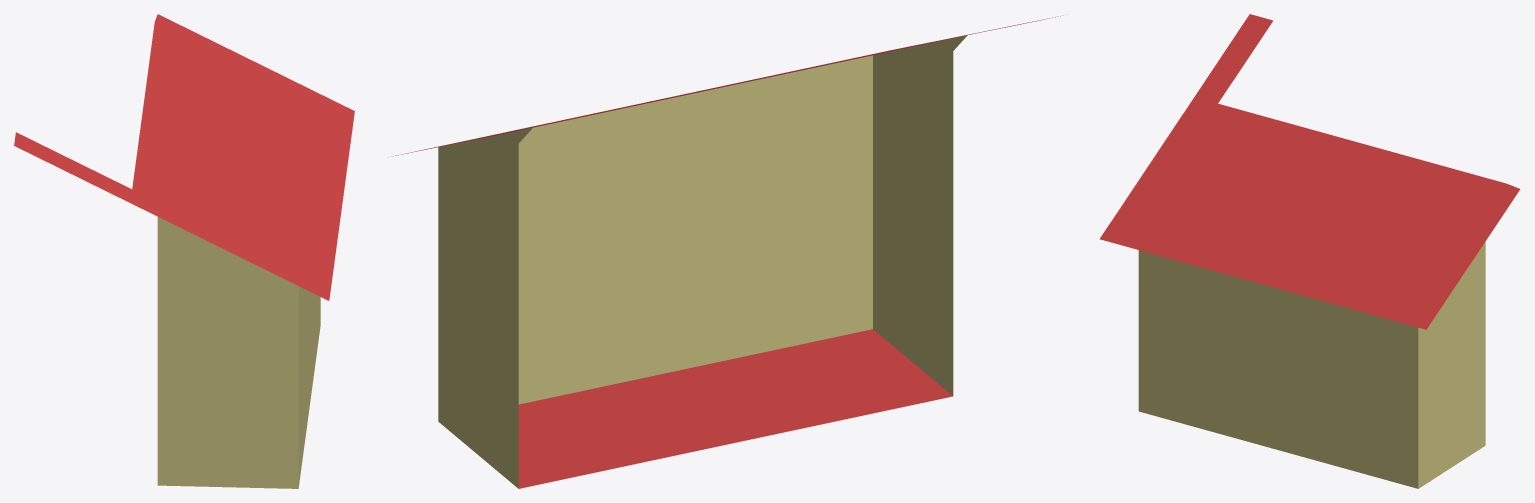
3 views of the same model, side by side, from view 1: azimuth 30°, elevation 25°; view 2: azimuth 150°, elevation 25°; view 3: azimuth 270°, elevation 25° (orthographic). The views are drawn at different scales.
Bounding box in the file's own units: 15.67 × 14.87 × 11.85.
